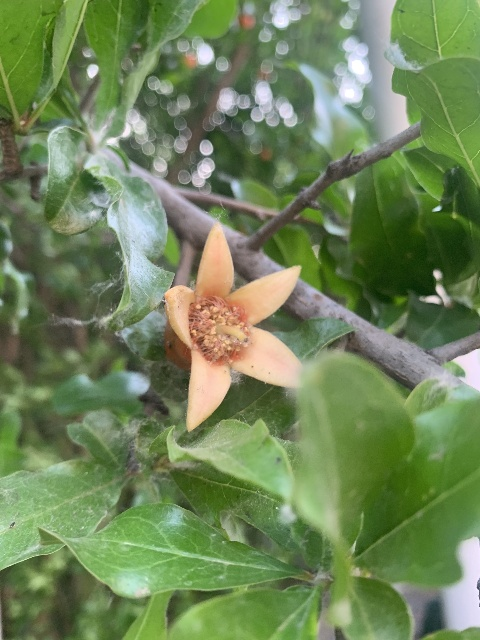flower: (163, 225, 303, 432)
